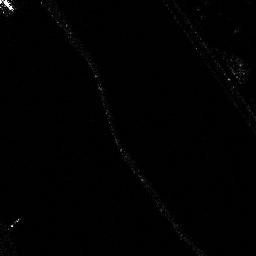ship: (1, 1, 14, 11)
